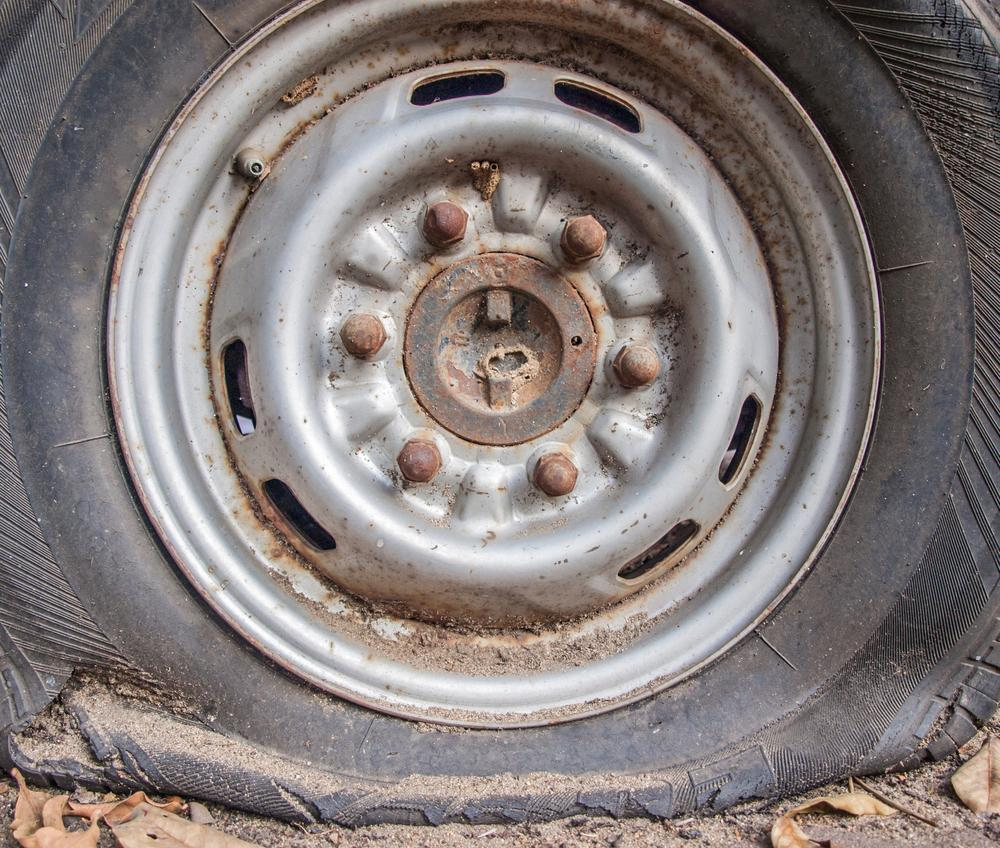tire flat: (0, 0, 1000, 830)
